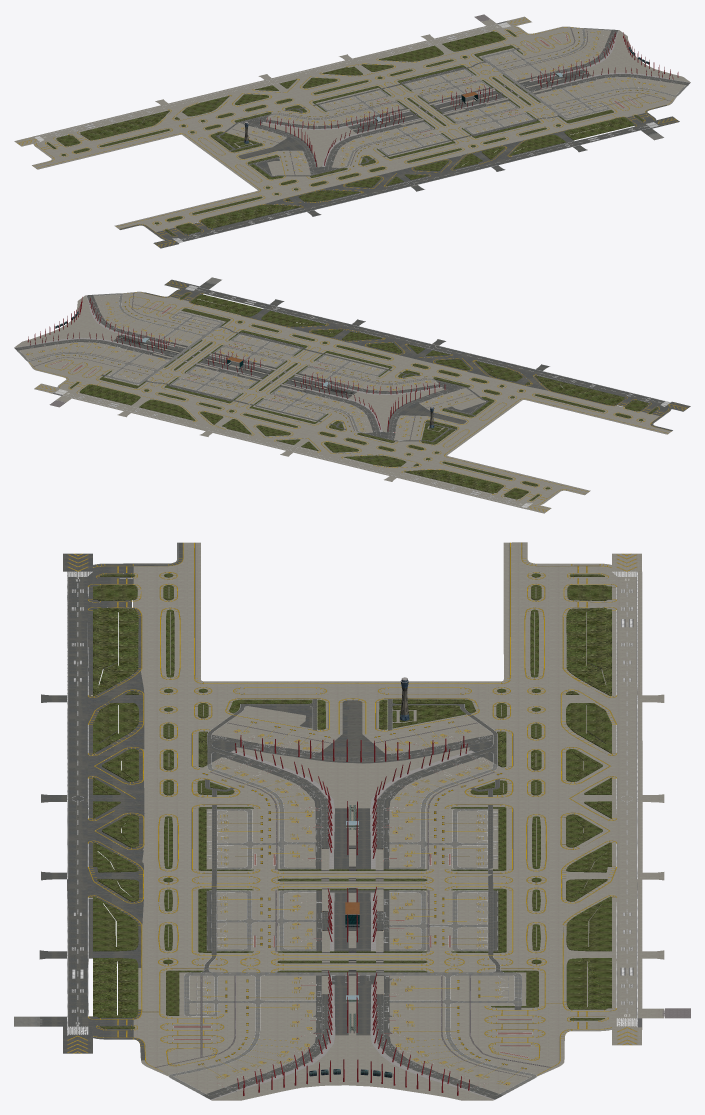
File: ground.obj
3 views of the same model, one above another, from view 1: azimuth 30°, elevation 25°; view 2: azimuth 150°, elevation 25°; view 3: azimuth 270°, elevation 25° (orthographic). The views are drawn at different scales.
Visible parts, largest first — view 1: Object065, Object024, Object029, Object030, Object034, pCylinder32, Object039, Object054, Object052, Object040, Object048, Object051 (+4 smaller); view 2: Object065, Object024, Object029, Object030, Object034, pCylinder32, Object039, Object054, Object040, Object052, Object048, Object051 (+4 smaller); view 3: Object065, Object024, Object029, Object030, Object034, Object039, pCylinder32, Object054, Object048, Object040, Object052, Object005 (+7 smaller).
Part boxes in pixels (left/top/right/bottom): Object065: left=32, top=19, right=690, bottom=232; Object024: left=119, top=28, right=689, bottom=241; Object029: left=47, top=31, right=643, bottom=235; Object030: left=33, top=42, right=673, bottom=239; Object034: left=34, top=26, right=687, bottom=242; pCylinder32: left=260, top=32, right=670, bottom=165; Object039: left=174, top=64, right=543, bottom=193; Object054: left=243, top=74, right=687, bottom=174; Object052: left=262, top=72, right=690, bottom=166; Object040: left=312, top=65, right=540, bottom=158; Object048: left=256, top=67, right=674, bottom=166; Object051: left=231, top=80, right=670, bottom=174; Object065: left=14, top=291, right=671, bottom=508; Object024: left=14, top=277, right=672, bottom=442; Object029: left=79, top=293, right=657, bottom=500; Object030: left=100, top=289, right=671, bottom=504; Object034: left=73, top=285, right=670, bottom=507; pCylinder32: left=30, top=299, right=439, bottom=431; Object039: left=161, top=329, right=530, bottom=458; Object054: left=87, top=296, right=462, bottom=439; Object040: left=164, top=330, right=392, bottom=423; Object052: left=85, top=295, right=442, bottom=432; Object048: left=93, top=301, right=449, bottom=431; Object051: left=131, top=293, right=473, bottom=439; Object065: left=133, top=542, right=664, bottom=1100; Object024: left=14, top=542, right=536, bottom=1099; Object029: left=93, top=573, right=611, bottom=1028; Object030: left=87, top=542, right=617, bottom=1078; Object034: left=67, top=571, right=637, bottom=1095; Object039: left=191, top=675, right=513, bottom=972; pCylinder32: left=235, top=736, right=469, bottom=1092; Object054: left=209, top=737, right=492, bottom=1098; Object048: left=202, top=741, right=498, bottom=1088; Object040: left=198, top=807, right=506, bottom=952; Object052: left=211, top=750, right=474, bottom=1100; Object005: left=391, top=968, right=616, bottom=1084.
Bounding box in the file's own units: 1974 × 73.93 × 1012.
